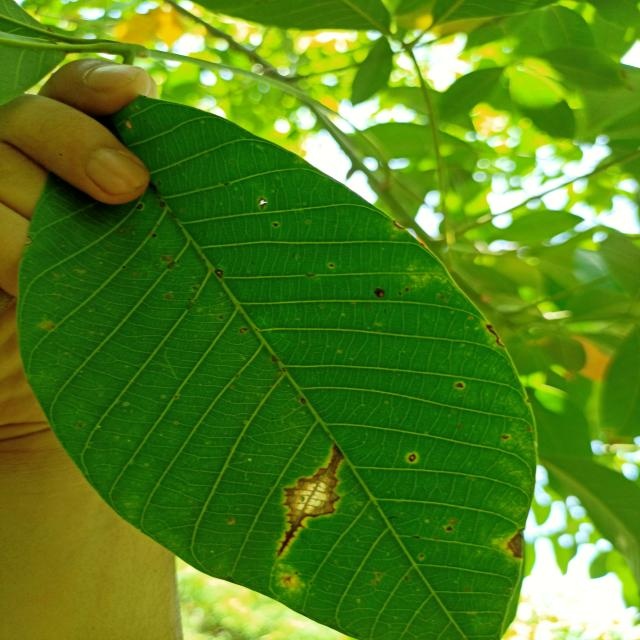Colletotrichum: (374, 288, 386, 298), (213, 268, 224, 278), (408, 454, 417, 462), (136, 204, 144, 210), (456, 383, 464, 388), (159, 202, 166, 207), (152, 233, 157, 238), (272, 223, 278, 227), (329, 264, 334, 267)
Corynespora: (276, 442, 346, 559)
Leaf-Blight: (508, 534, 525, 556)
